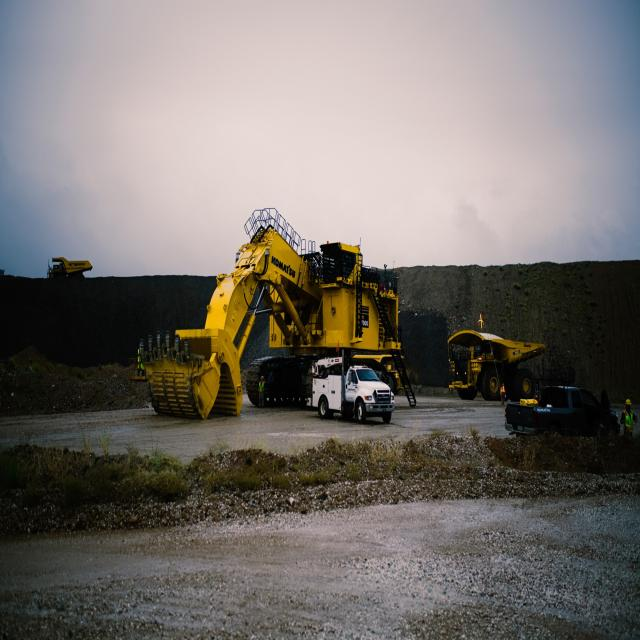dump_truck: (446, 314, 546, 399), (42, 240, 110, 296)
excavator: (132, 182, 427, 430)
light_vehicle: (316, 351, 406, 431), (503, 380, 619, 442)
